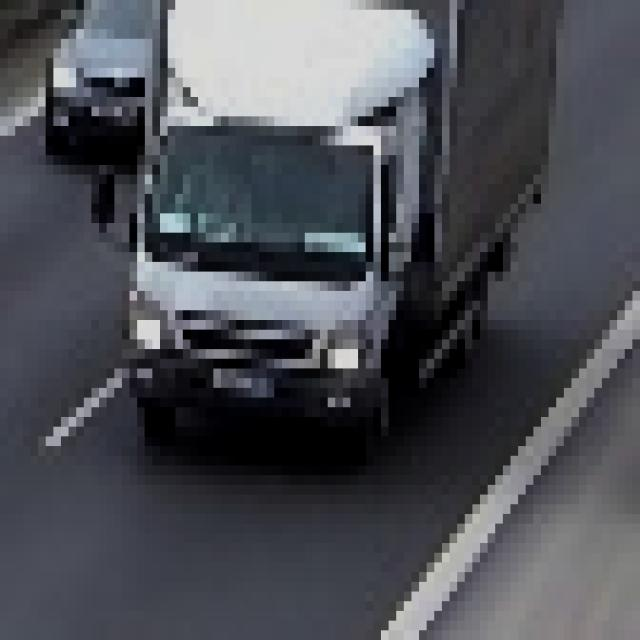truck: (92, 1, 542, 428)
